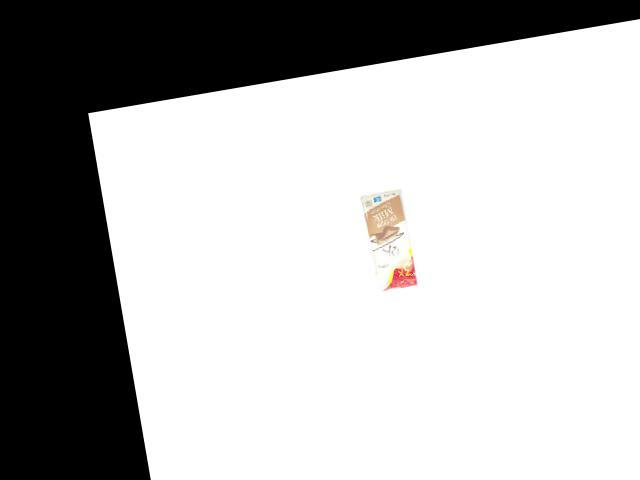chocolate: (359, 190, 421, 294)
